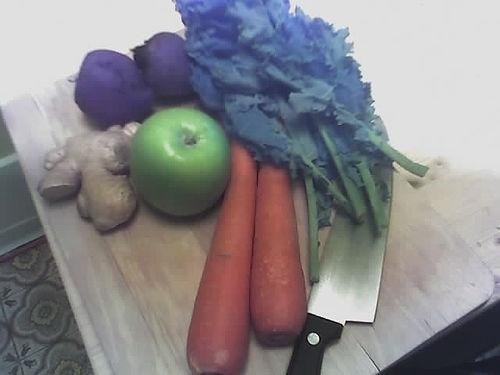apple: (130, 108, 231, 217)
carrot: (187, 136, 258, 375), (249, 162, 307, 346)
